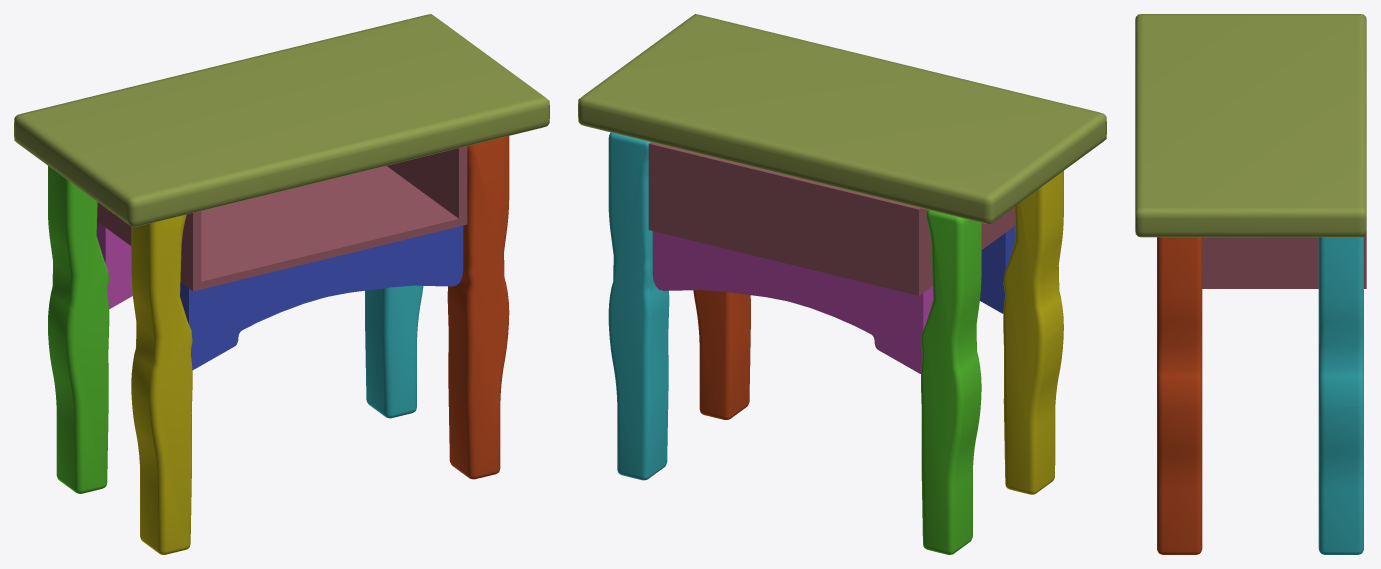
File: Table_Style_01.fbx
3 renders of one model, left to right at view 1: azimuth 30°, elevation 25°; view 2: azimuth 150°, elevation 25°; view 3: azimuth 270°, elevation 25°, orthographic. The views are drawn at different scales.
Parts seen in each view (by area): view 1: SetA_Table_Style_01; view 2: SetA_Table_Style_01; view 3: SetA_Table_Style_01.
Boxes of the visible parts, x1=… form: SetA_Table_Style_01: x1=14, y1=14, x2=549, y2=554; SetA_Table_Style_01: x1=578, y1=14, x2=1106, y2=554; SetA_Table_Style_01: x1=1135, y1=14, x2=1366, y2=554.
Bounding box in the file's own units: 1.06 × 0.9064 × 0.523.
